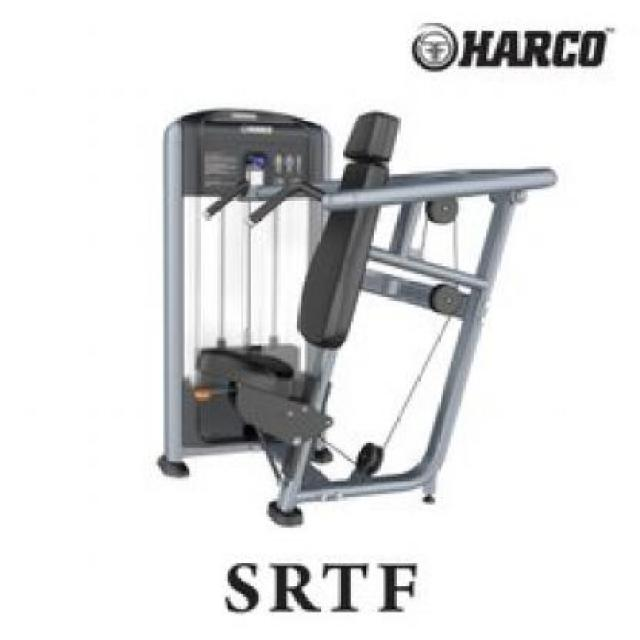shoulder press machine: (162, 105, 563, 526)
